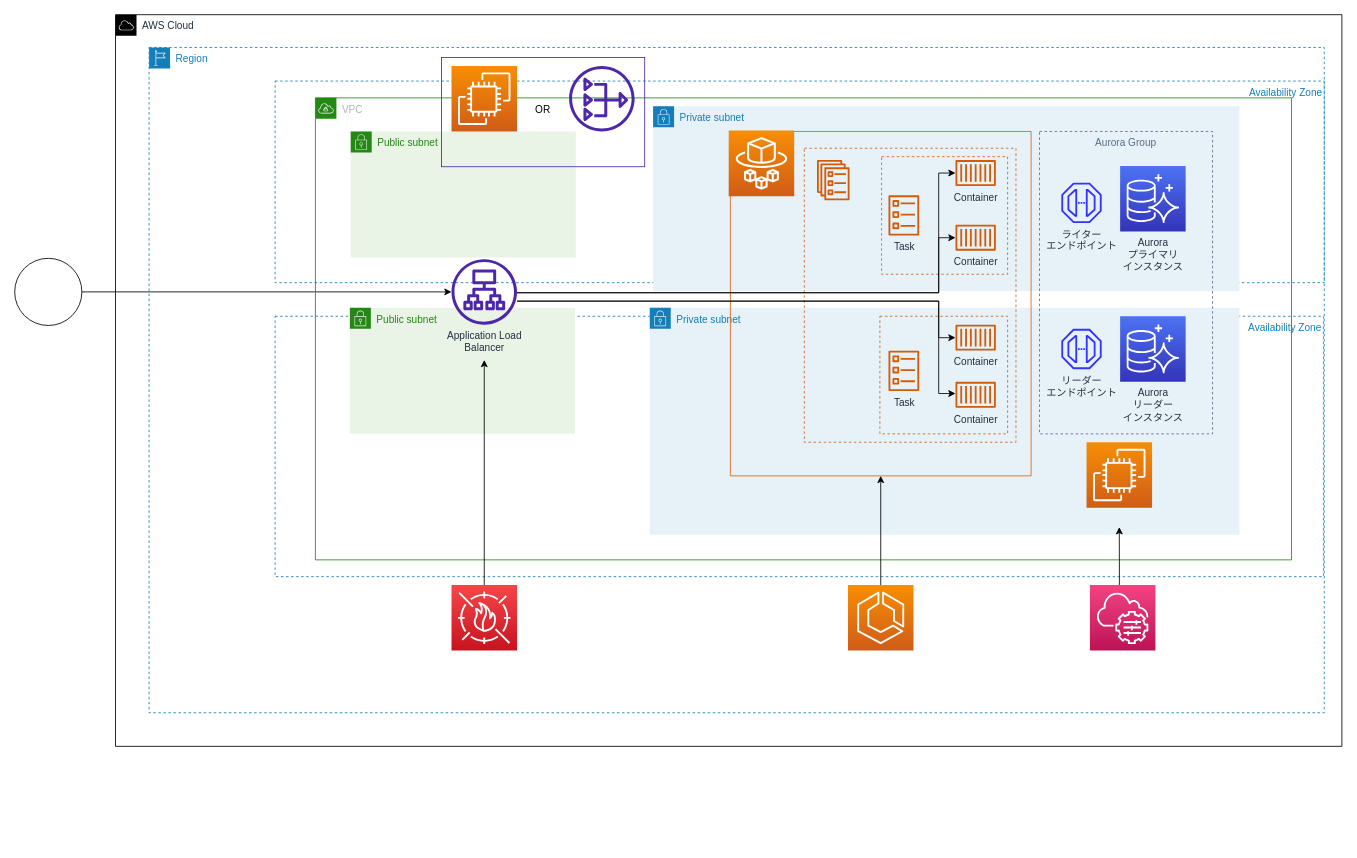
The diagram is 1357 pixels wide and 858 high, and some of its shapes have lost their labels. The centre of each missing label's shape, as x and y in pixels:
AWS WAF: point 484,617
Bastion EC2: point 1119,474
ECS クラスター: point 880,617
Fargate: point 761,163
NAT Gateway: point 601,98
NAT Instance: point 484,98
Service: point 832,180
SSM (DBメンテナンス用): point 1122,617
インター ネット: point 48,291
